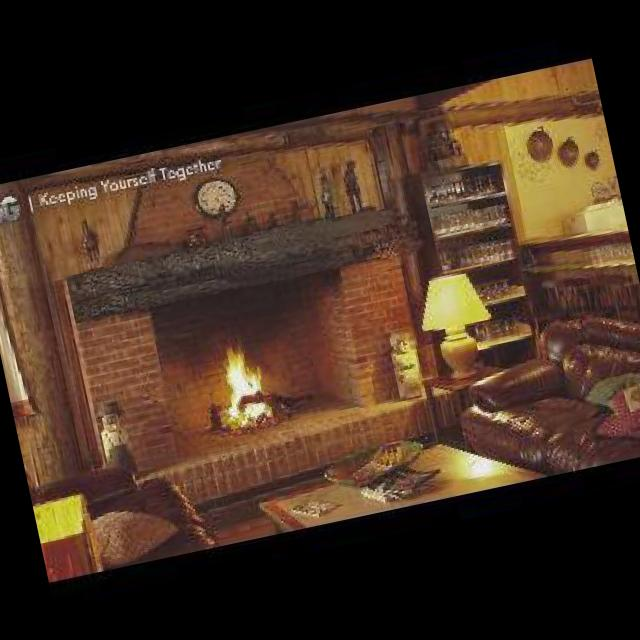Fire: (208, 331, 278, 432)
